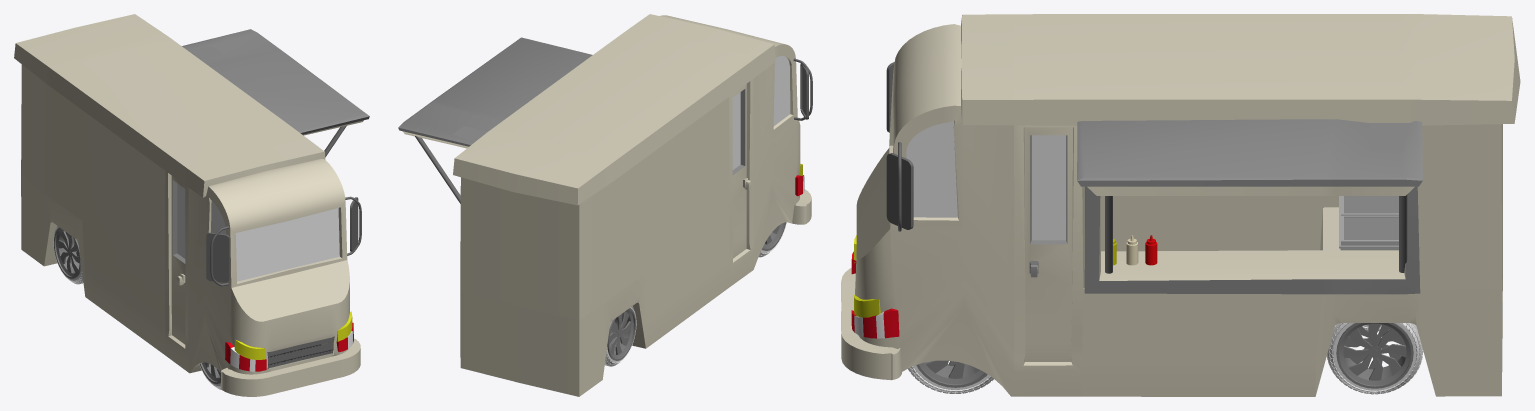
Rendered from FoodTruckTetxurized.fbx.
3 views of the same model, side by side, from view 1: azimuth 30°, elevation 25°; view 2: azimuth 150°, elevation 25°; view 3: azimuth 270°, elevation 25° (orthographic). The views are drawn at different scales.
Parts seen in each view (by area): view 1: FoodTruck, Epejo Retrovisor Izquierdo, Plane, Epejo Retrovisor Derecho, Plane.002; view 2: FoodTruck, Plane, Epejo Retrovisor Izquierdo, Cylinder.007, Plane.002; view 3: FoodTruck, Plane, Cube, Epejo Retrovisor Derecho, Plane.002, Cylinder.007.
Boxes of the visible parts, x1=… form: FoodTruck: x1=14, y1=14, x2=369, y2=396; Epejo Retrovisor Izquierdo: x1=206, y1=226, x2=229, y2=286; Plane: x1=53, y1=226, x2=83, y2=284; Epejo Retrovisor Derecho: x1=345, y1=196, x2=361, y2=255; Plane.002: x1=199, y1=362, x2=221, y2=389; FoodTruck: x1=398, y1=14, x2=811, y2=396; Plane: x1=604, y1=306, x2=636, y2=366; Epejo Retrovisor Izquierdo: x1=793, y1=58, x2=812, y2=120; Cylinder.007: x1=415, y1=136, x2=460, y2=203; Plane.002: x1=758, y1=222, x2=786, y2=257; FoodTruck: x1=841, y1=14, x2=1520, y2=396; Plane: x1=1326, y1=323, x2=1423, y2=394; Cube: x1=1339, y1=196, x2=1398, y2=250; Epejo Retrovisor Derecho: x1=886, y1=142, x2=913, y2=231; Plane.002: x1=908, y1=360, x2=993, y2=393; Cylinder.007: x1=1105, y1=194, x2=1407, y2=273.
Bounding box in the file's own units: 395 × 357 × 723.
